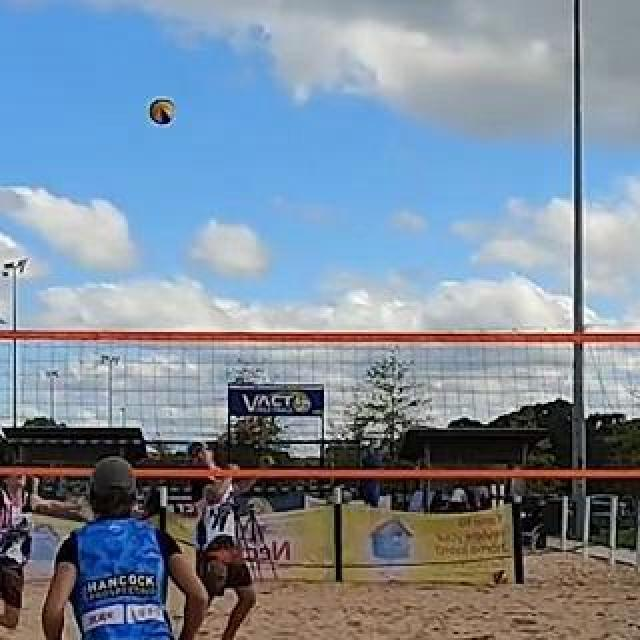volleyball: (150, 99, 176, 125), (492, 569, 508, 587)
